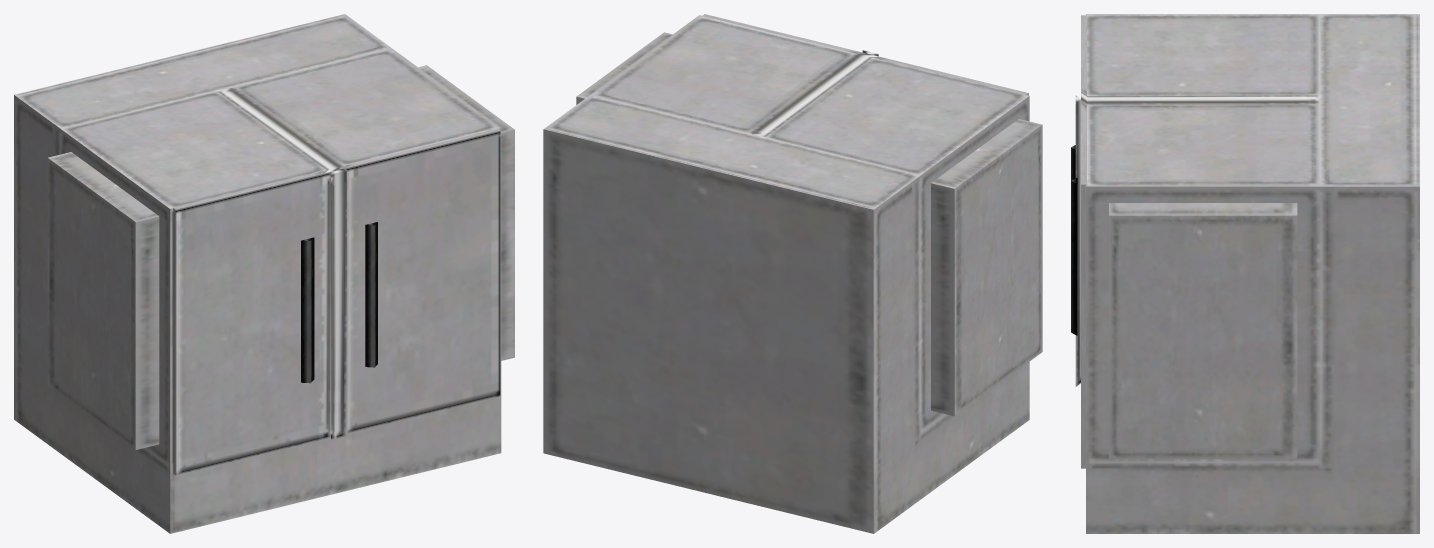
Rendered from frn_all_plan_chest_s01_l1.fbx.
3 renders of one model, left to right at view 1: azimuth 30°, elevation 25°; view 2: azimuth 150°, elevation 25°; view 3: azimuth 270°, elevation 25°, orthographic. The views are drawn at different scales.
Parts seen in each view (by area): view 1: mesh_node; view 2: mesh_node; view 3: mesh_node.
Boxes of the visible parts, <box> form: mesh_node: <box>14,14,514,533</box>; mesh_node: <box>543,14,1042,533</box>; mesh_node: <box>1071,14,1419,533</box>.
Size of the model in its own units: 1.15 by 0.9382 by 0.8531.
